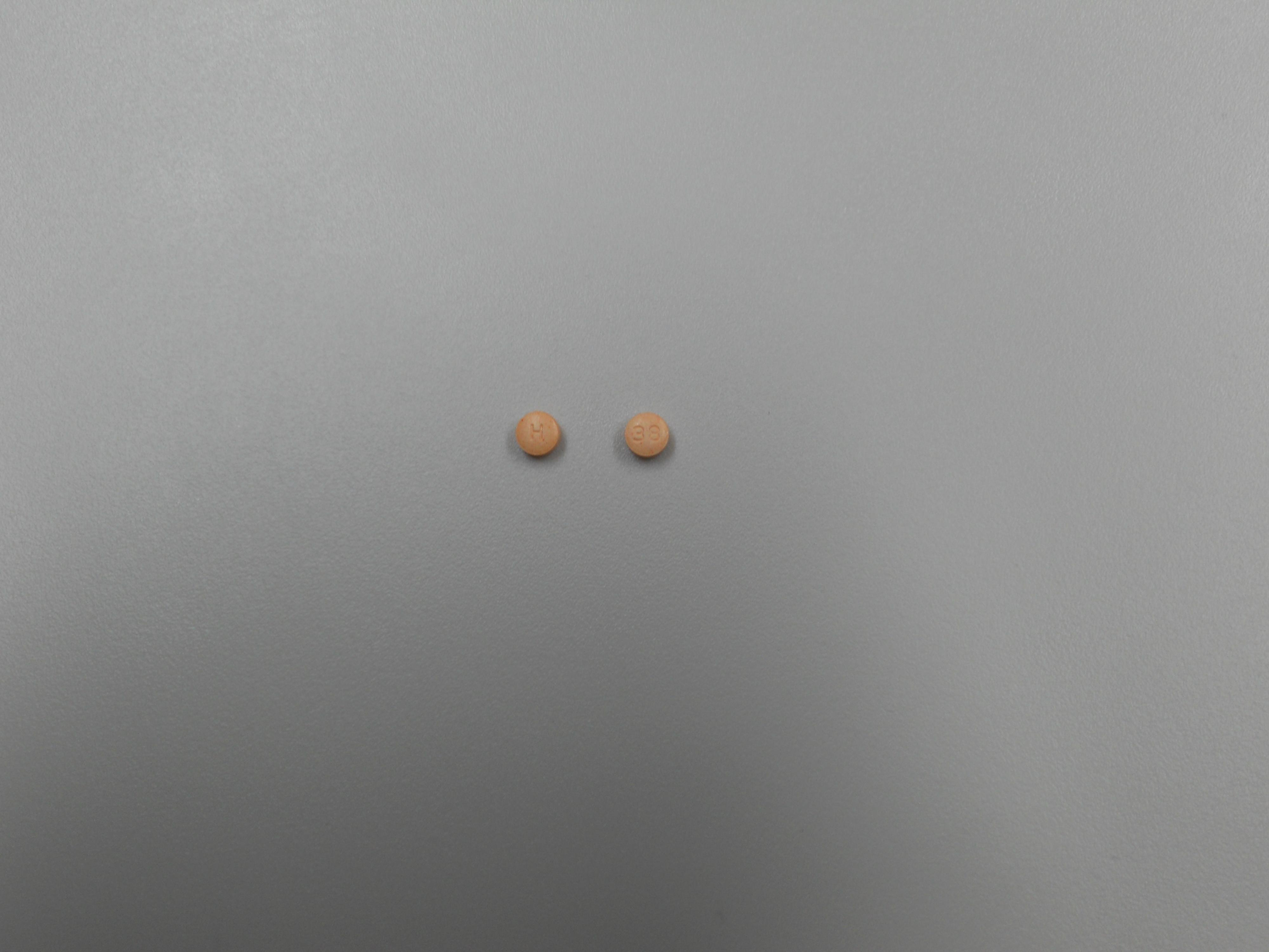Pill: (620, 406, 674, 465), (512, 406, 565, 462)
